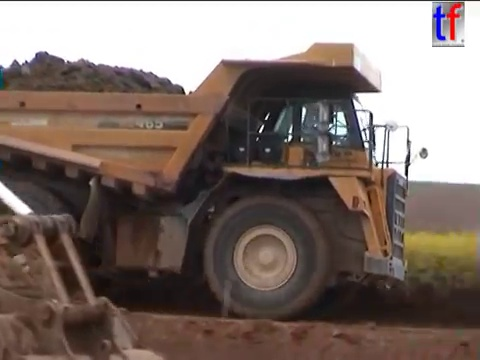excavator: (1, 178, 167, 360)
truck: (1, 37, 432, 324)
